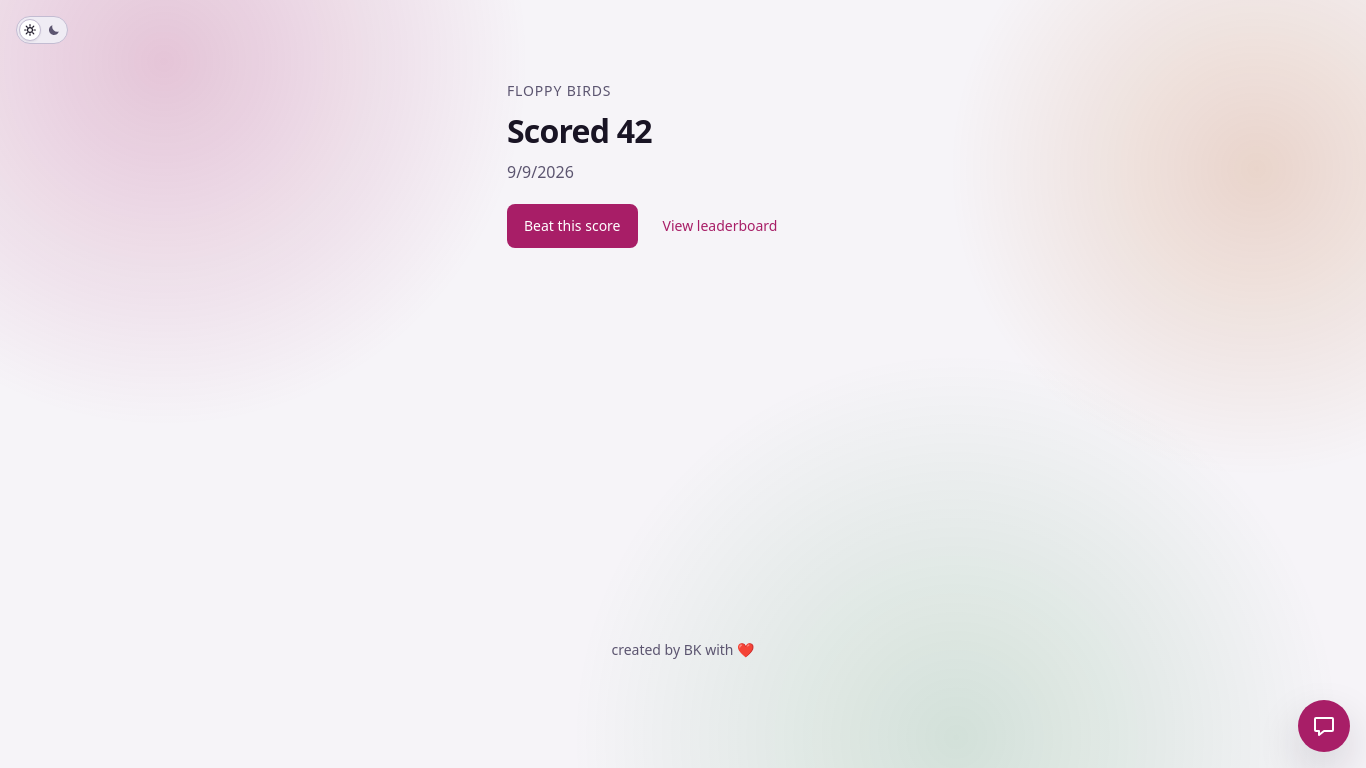
Test case: MPG-056: a durable share link is its own entry point › 'Beat this score' opens the game with the shared score as the Target
Click the button "Beat this score". click: (572, 226)
box: [507, 204, 638, 248]
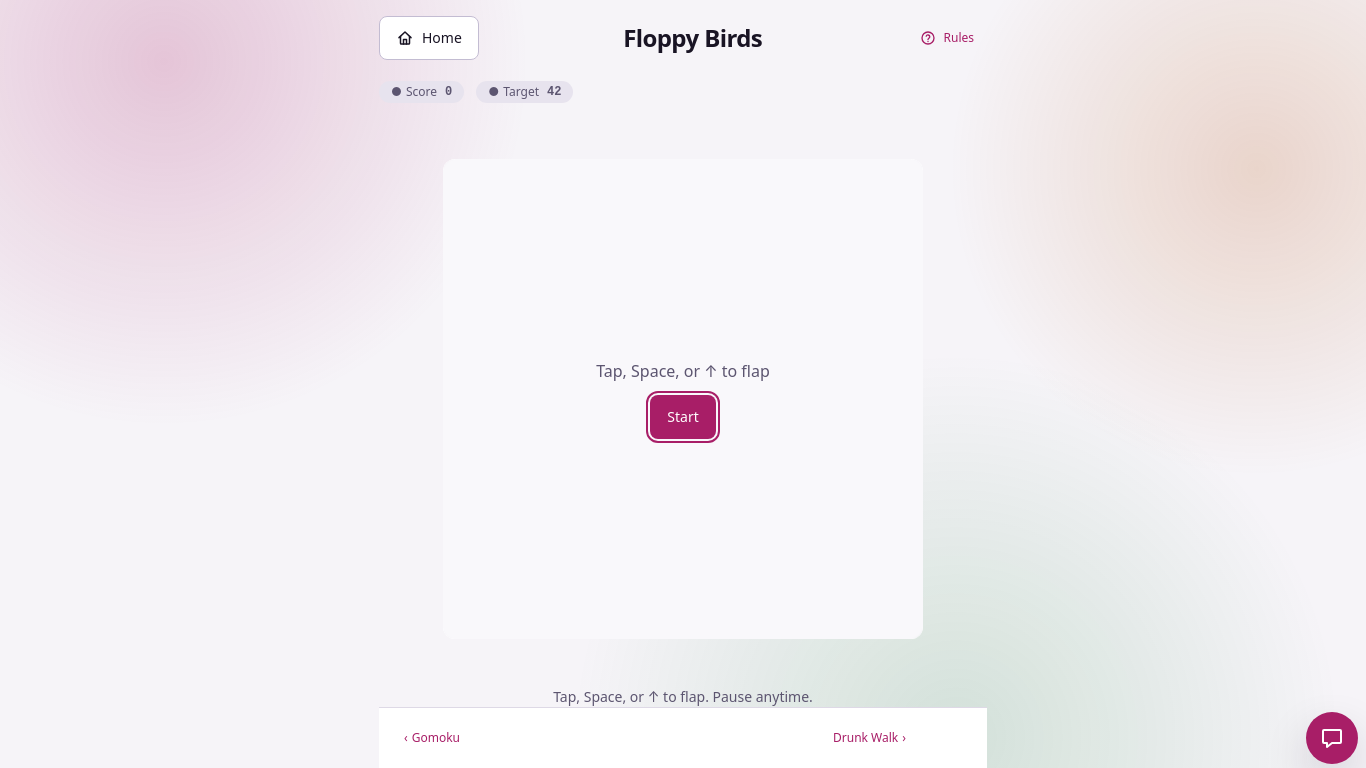
Expected: the text "42" is shown, [547, 85, 561, 99]
Expected: the element named "Floppy Birds play area" is shown, [443, 159, 923, 639]
Expected: the text "Target" is shown, [503, 83, 539, 100]
